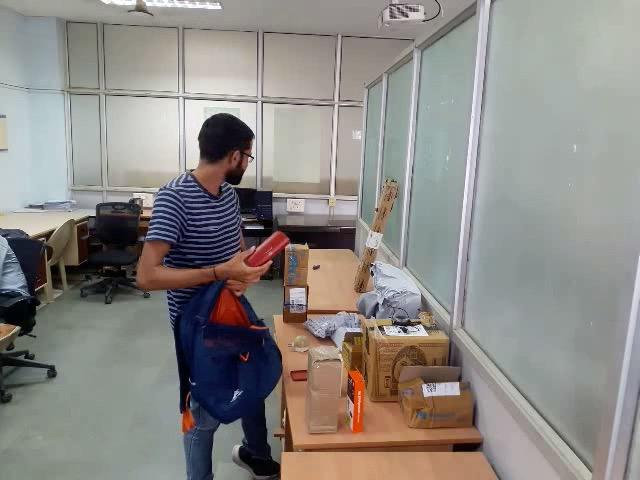shoplifting: (170, 223, 296, 427)
